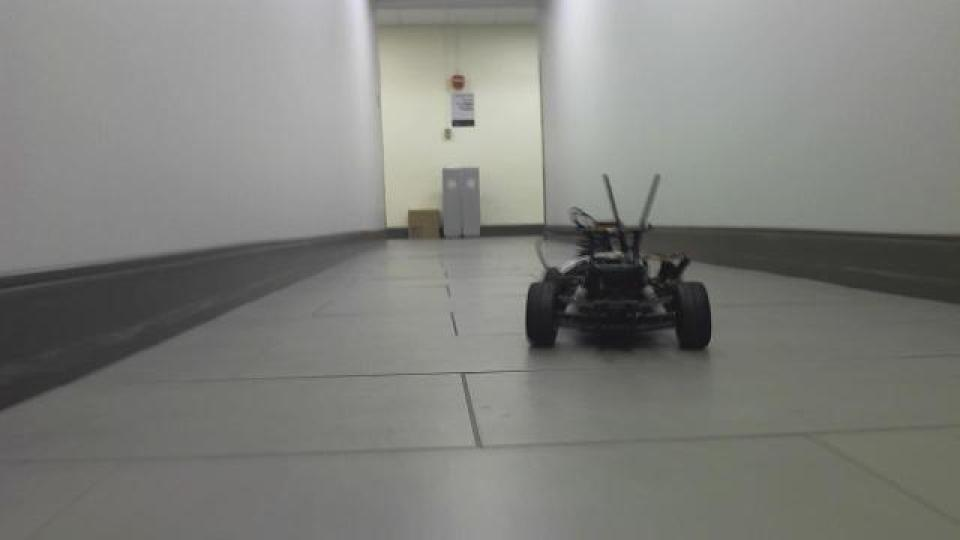car: (520, 170, 714, 354)
